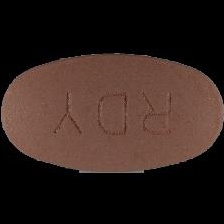43063-080: (0, 0, 224, 224)
